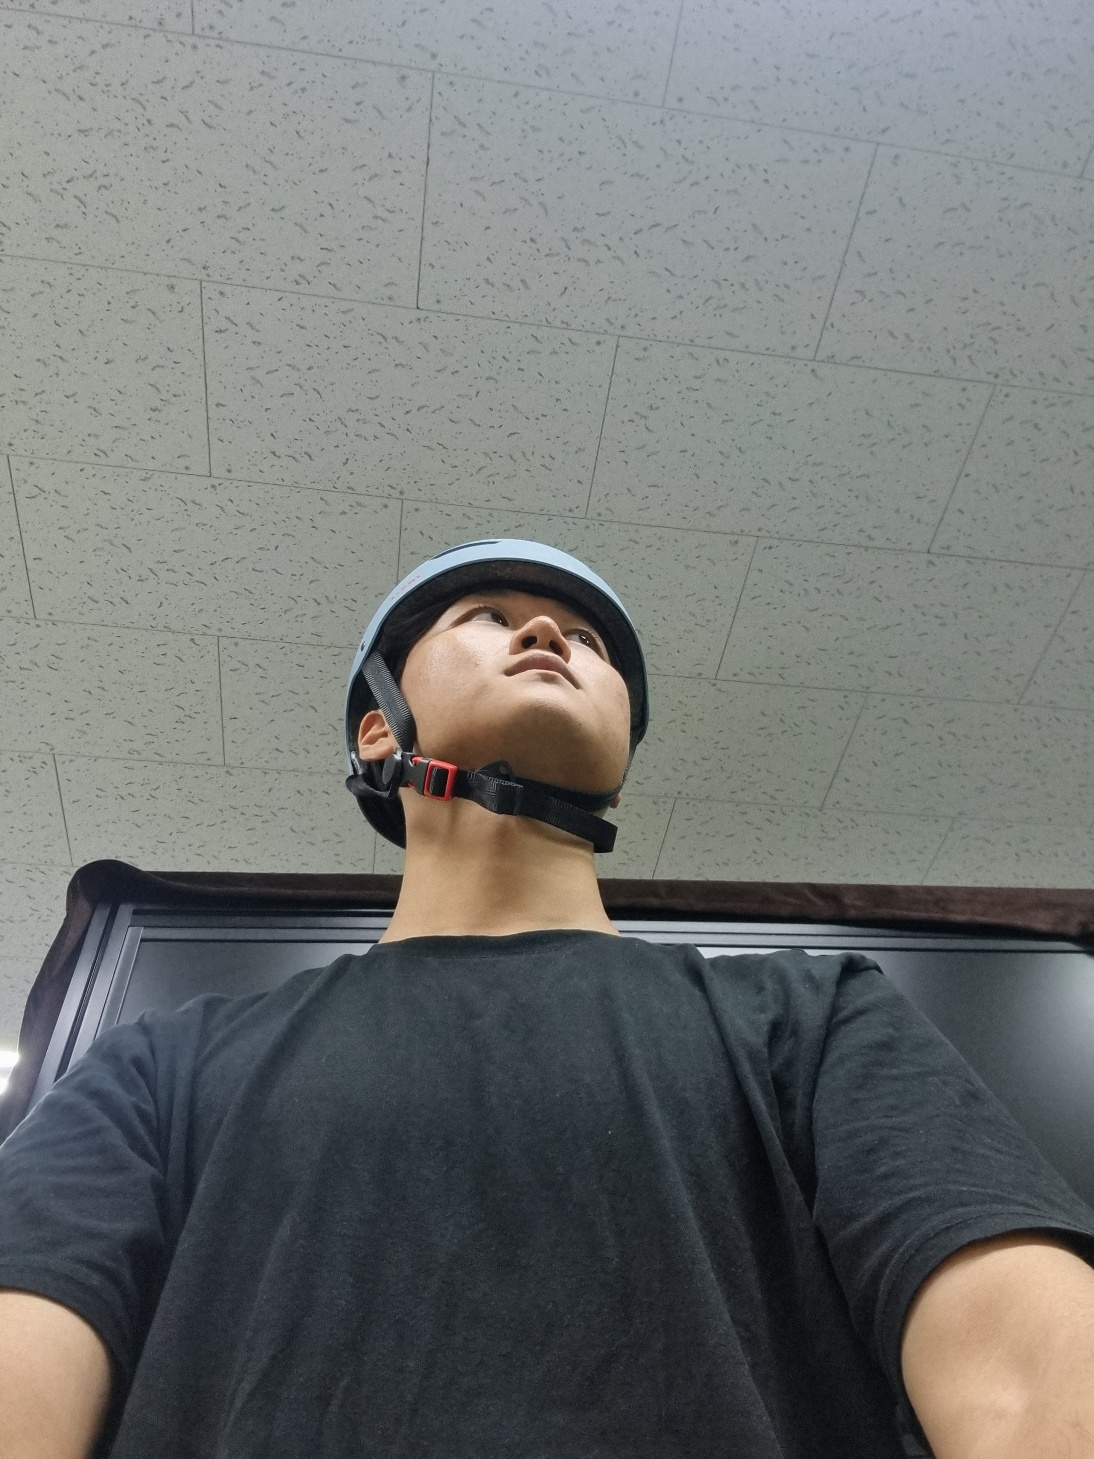Helmet: (280, 500, 687, 918)
